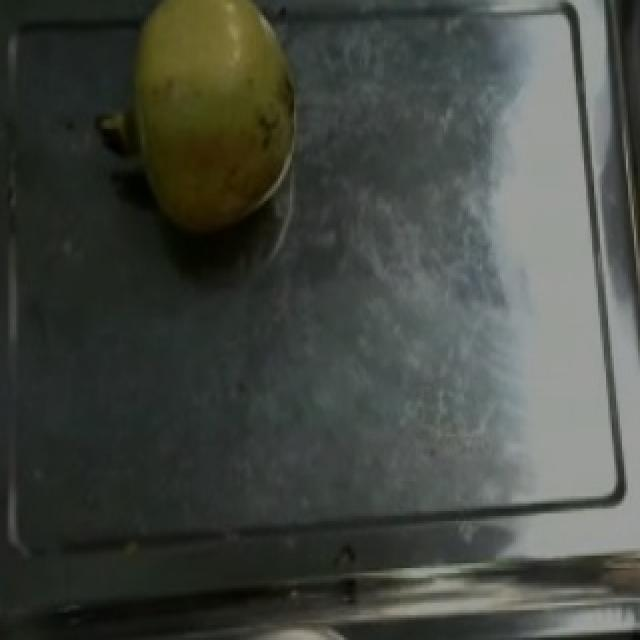fruit: (72, 0, 326, 256)
